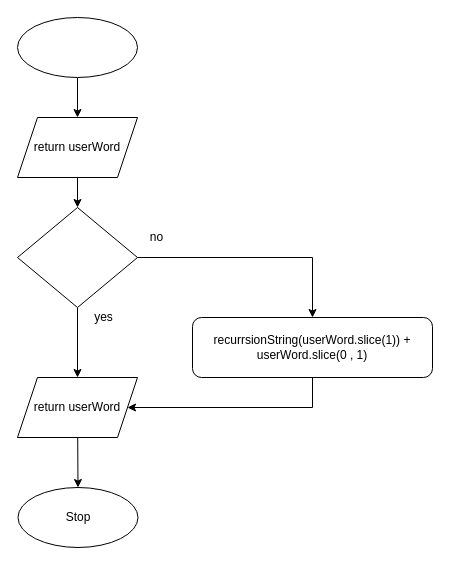
The diagram is 450 pixels wide and 565 high, and some of its shapes have lost their labels. The shapes that lost their labels are listed below. From the top down, each one's box as (x1, y1, x2, y2) in pixels, then its label:
(16, 16, 138, 78): Start
(16, 206, 138, 308): if userWord == ""
